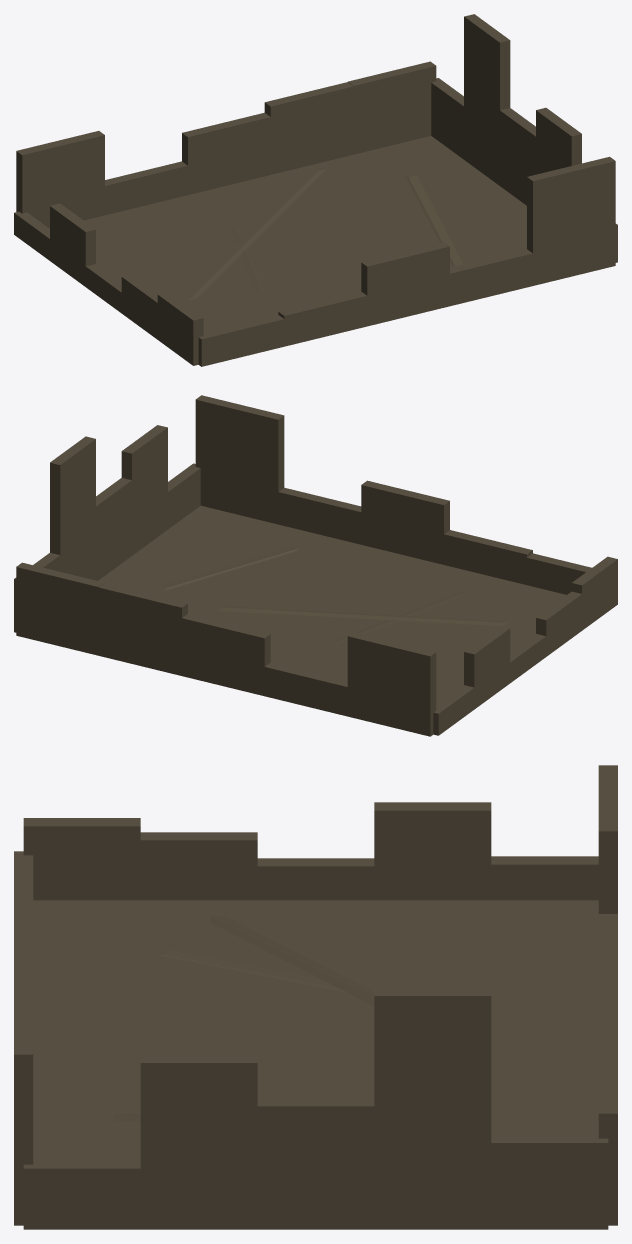
File: burned_hut.glb
The picture shows the model from 3 angles, top to bottom: view 1: azimuth 30°, elevation 25°; view 2: azimuth 150°, elevation 25°; view 3: azimuth 270°, elevation 25°; orthographic projection. The views are drawn at different scales.
Visible parts, largest first — view 1: BurnedHut; view 2: BurnedHut; view 3: BurnedHut.
Boxes of the visible parts, x1,y1,x2,y2 form: BurnedHut: (14,14,617,366); BurnedHut: (14,395,617,736); BurnedHut: (14,765,617,1229).
Bounding box in the file's own units: 4.1 × 1.32 × 3.1.
